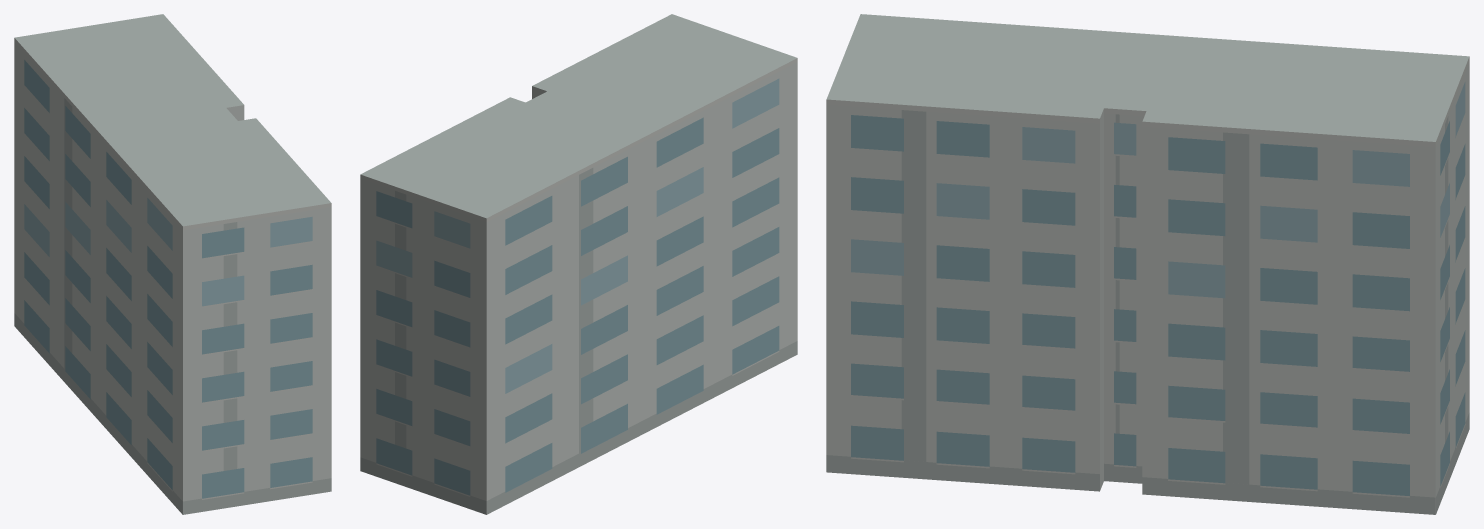
Rendered from survey-upis-32868370.glb.
3 views of the same model, side by side, from view 1: azimuth 30°, elevation 25°; view 2: azimuth 150°, elevation 25°; view 3: azimuth 270°, elevation 25° (orthographic). The views are drawn at different scales.
Visible parts, largest first — view 1: survey-upis-32868370.tmp; view 2: survey-upis-32868370.tmp; view 3: survey-upis-32868370.tmp.
Boxes of the visible parts, x1=… form: survey-upis-32868370.tmp: x1=14, y1=14, x2=331, y2=514; survey-upis-32868370.tmp: x1=360, y1=14, x2=797, y2=514; survey-upis-32868370.tmp: x1=826, y1=14, x2=1469, y2=514.
Size of the model in its own units: 12.71 by 17.25 by 26.97.
